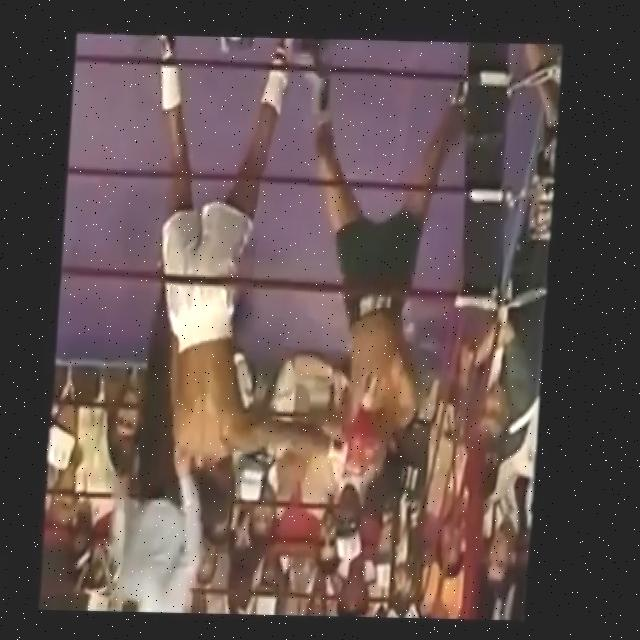Jab: (212, 337, 385, 506)
